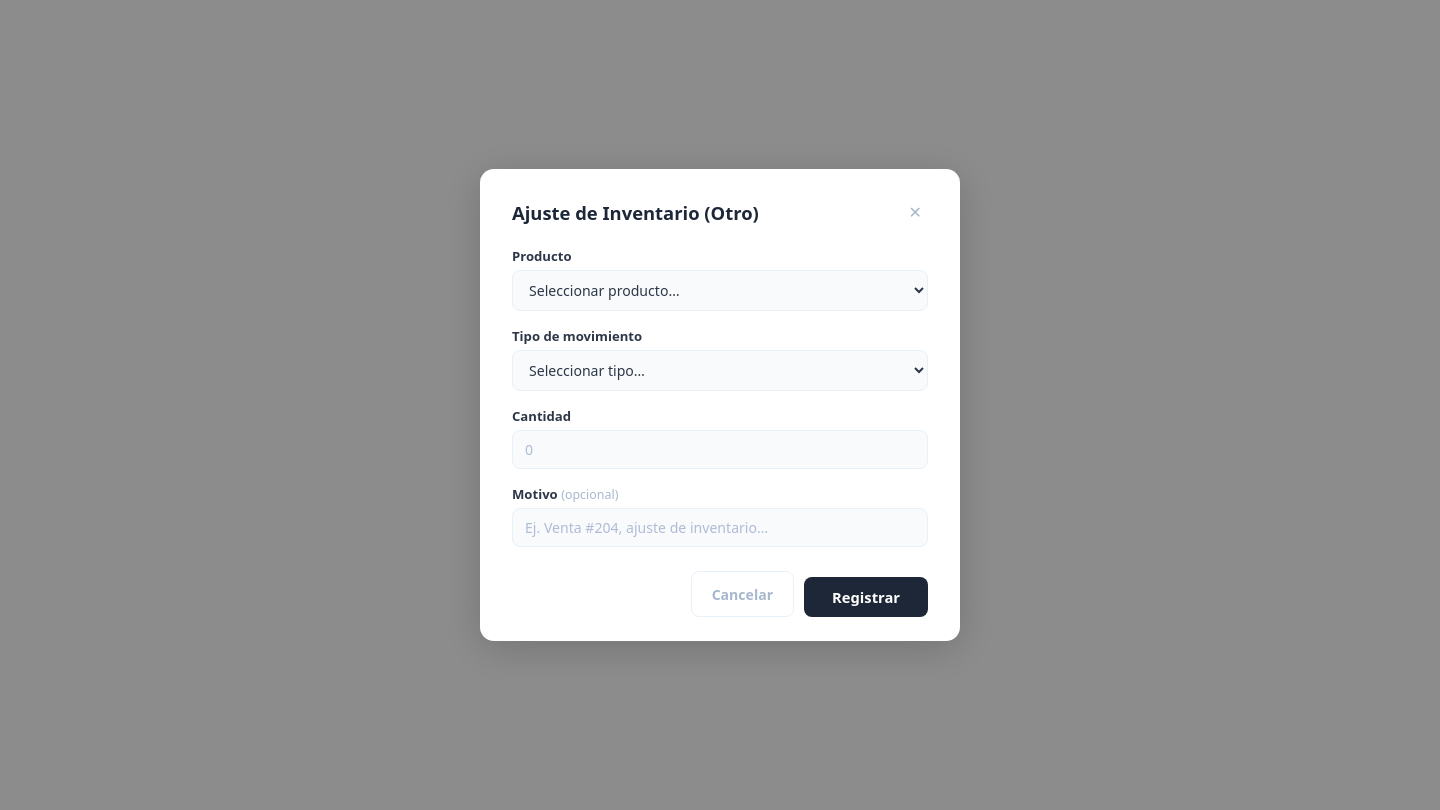
NewMovementModal › muestra error cuando no se selecciona el tipo de movimiento
The width and height of the screenshot is (1440, 810).
Step 1. Select "Producto A (stock: 10)" in the dropdown below "Producto" → (720, 290), box [512,270,928,311]
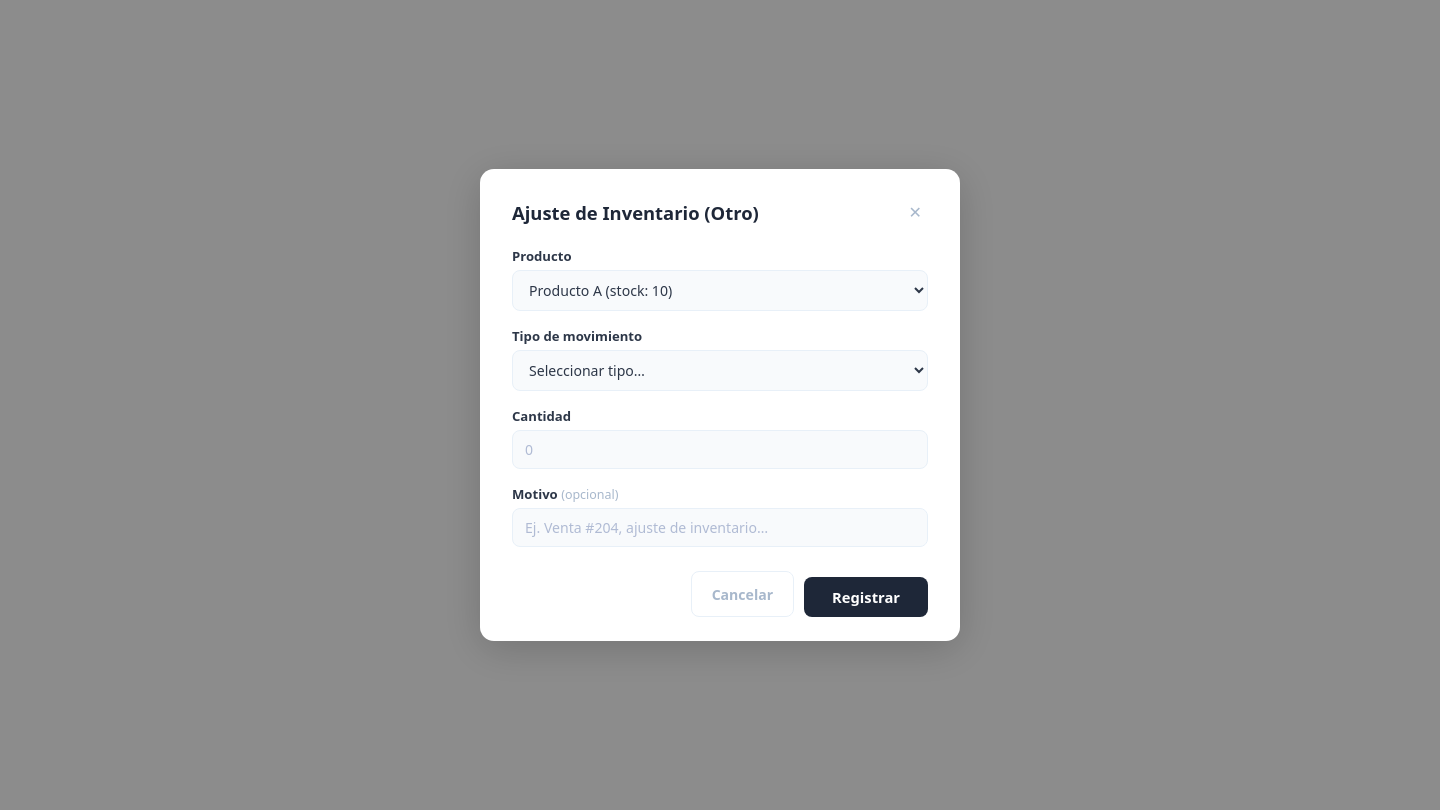
Step 2. Submit the form, box [512,247,928,617]
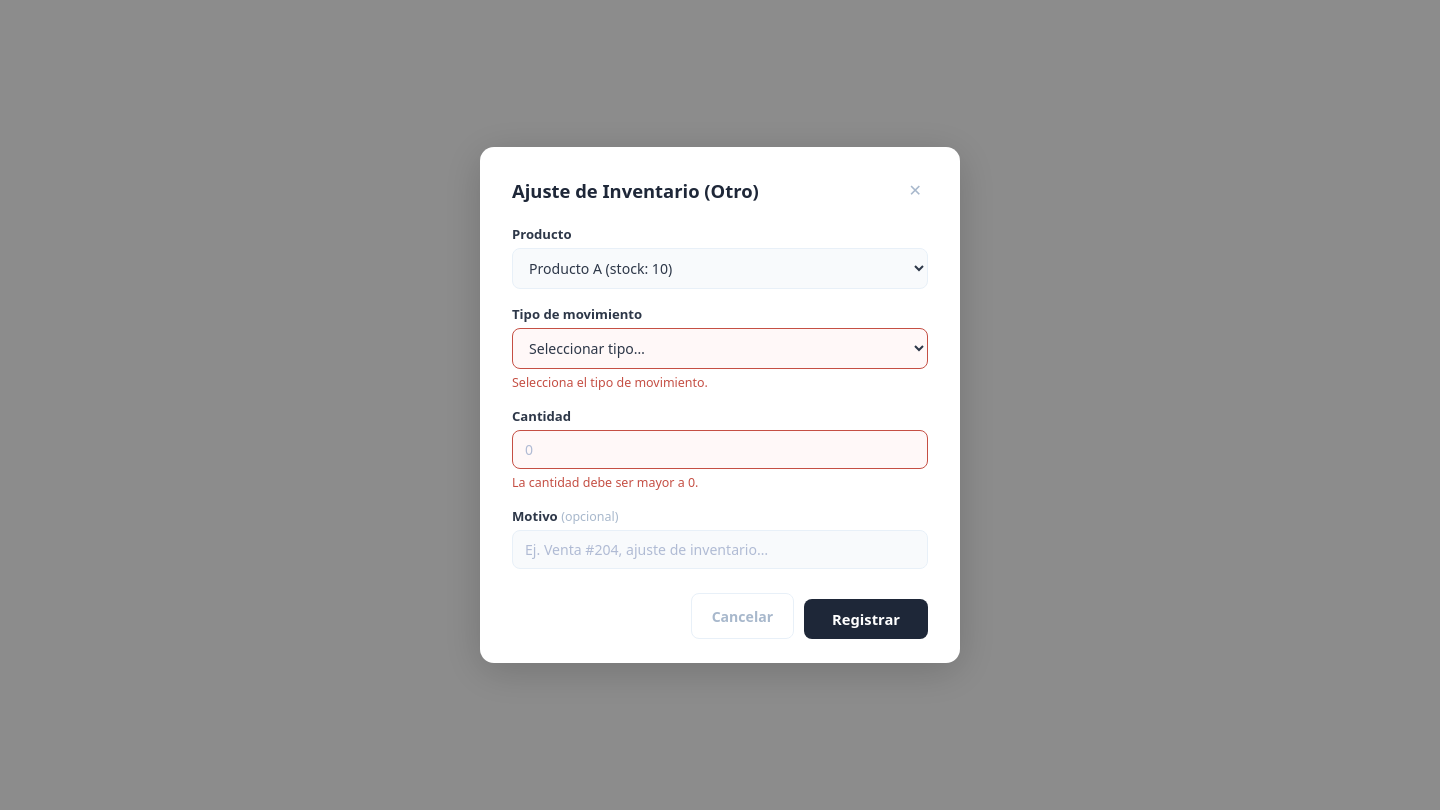
Expected: the text "Selecciona el tipo de movimiento." is shown, [512,374,708,391]
